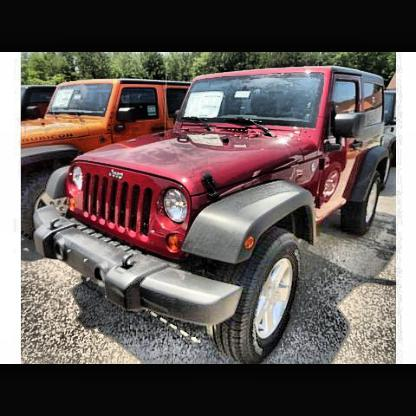Jeep Wrangler SUV 2012: (31, 67, 394, 363)
